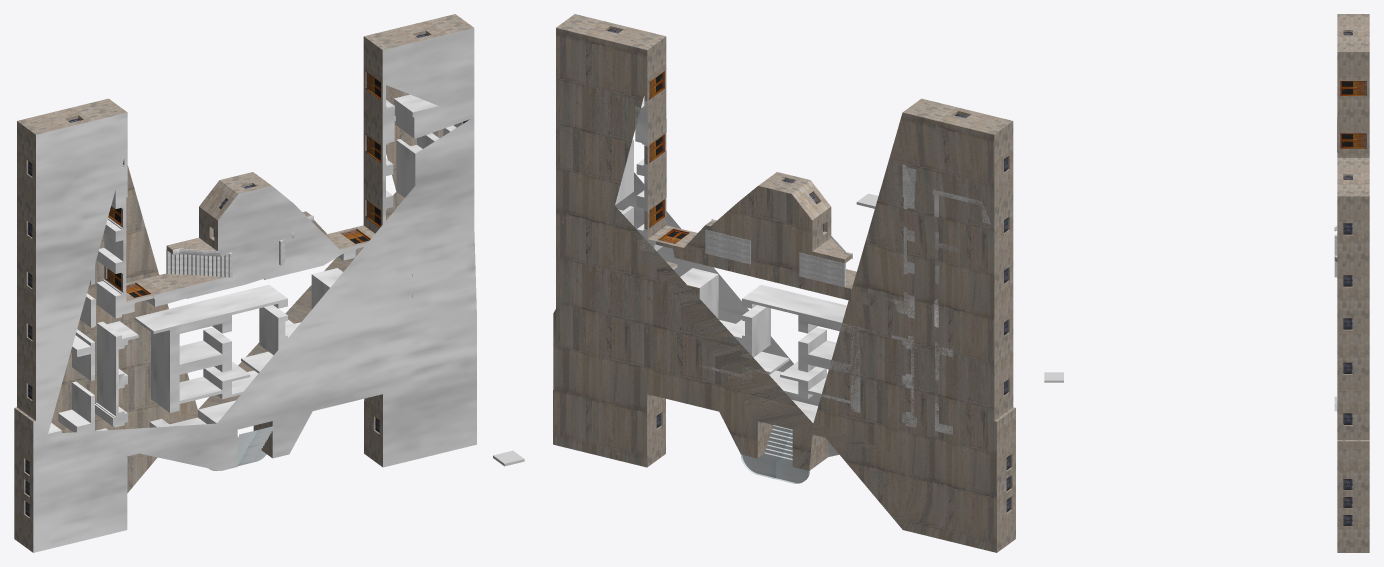
File: castelo_mourisco_terreo.fbx
3 views of the same model, side by side, from view 1: azimuth 30°, elevation 25°; view 2: azimuth 150°, elevation 25°; view 3: azimuth 270°, elevation 25° (orthographic). The views are drawn at different scales.
Visible parts, largest first — view 1: paredes_terreo, Escada Trás, Escada Frente, Janelas Térreo.001; view 2: paredes_terreo, Escada Trás, Escada Frente, Janelas Térreo.001; view 3: paredes_terreo, Janelas Térreo.001.
Part boxes in pixels (<box>): paredes_terreo: <box>14,14,476,552</box>; Escada Trás: <box>166,215,313,277</box>; Escada Frente: <box>208,426,274,470</box>; Janelas Térreo.001: <box>25,33,467,516</box>; paredes_terreo: <box>553,14,1015,552</box>; Escada Trás: <box>705,219,852,287</box>; Escada Frente: <box>741,425,809,483</box>; Janelas Térreo.001: <box>607,28,1010,512</box>; paredes_terreo: <box>1337,14,1369,552</box>; Janelas Térreo.001: <box>1343,32,1352,526</box>.
Bounding box in the file's own units: 4739 × 4260 × 3531.
Materials: 6 (6 with a texture image).
